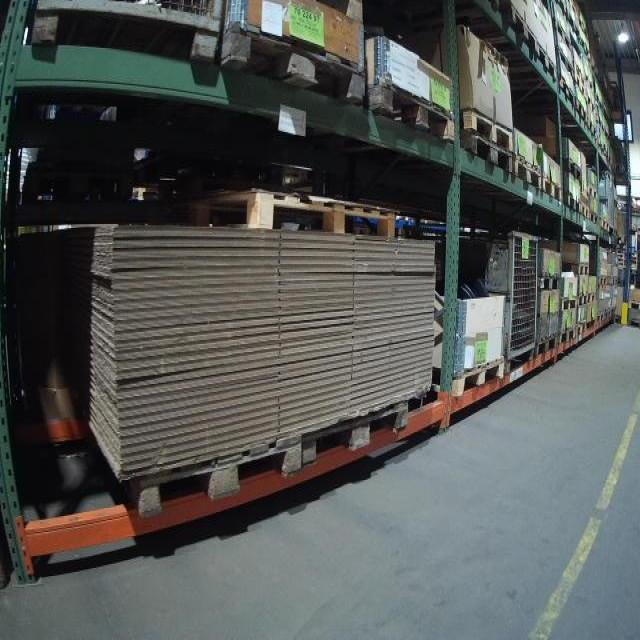pallet: (130, 425, 302, 518), (223, 19, 365, 113), (168, 189, 397, 238), (302, 401, 407, 468), (358, 82, 461, 146), (425, 354, 511, 401), (451, 102, 518, 154), (458, 135, 516, 182), (497, 1, 538, 52), (550, 150, 585, 178), (536, 41, 561, 78), (533, 330, 561, 363), (516, 162, 541, 195), (554, 71, 575, 110), (552, 19, 574, 56), (543, 173, 563, 207), (560, 190, 584, 214), (554, 263, 592, 278), (572, 93, 587, 129), (573, 69, 587, 102), (559, 326, 578, 350), (536, 275, 561, 293), (585, 118, 600, 148), (559, 297, 580, 315), (572, 319, 589, 341), (591, 311, 608, 331), (587, 76, 602, 98), (585, 180, 601, 200), (577, 201, 590, 223), (587, 99, 599, 121), (588, 210, 599, 228), (578, 292, 593, 305), (596, 274, 608, 288), (600, 216, 609, 231)
stillage: (451, 226, 546, 378), (28, 0, 230, 70), (596, 164, 618, 233)
